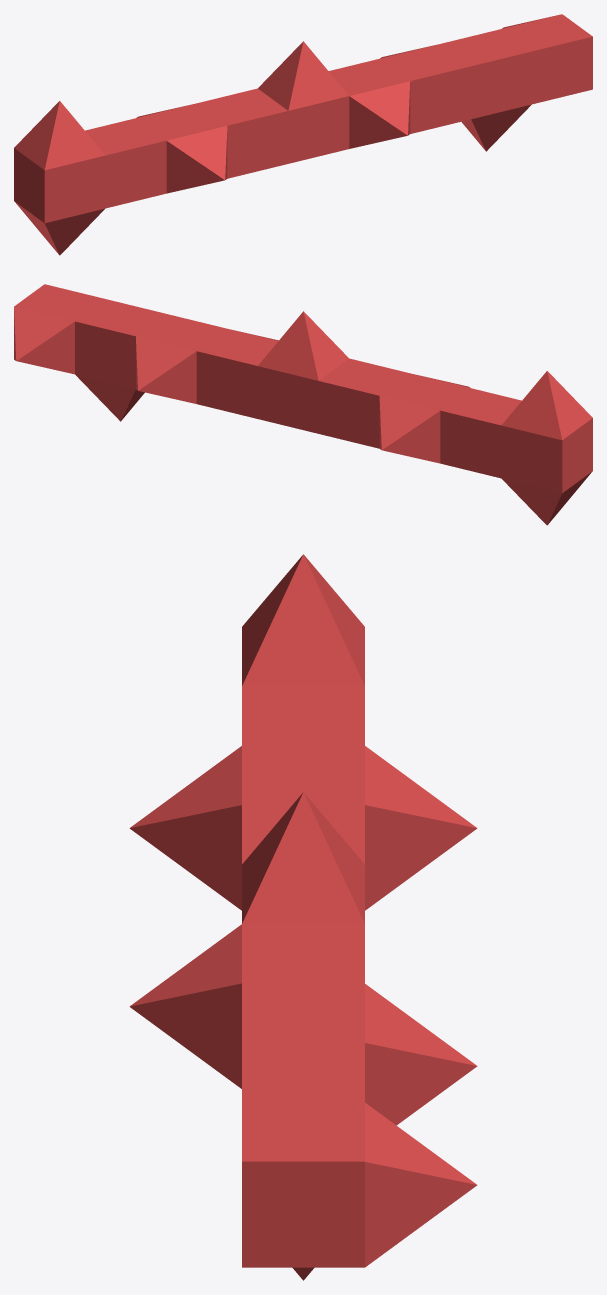
The model's file is TPole.FBX.
The picture shows the model from 3 angles, top to bottom: view 1: azimuth 30°, elevation 25°; view 2: azimuth 150°, elevation 25°; view 3: azimuth 270°, elevation 25°; orthographic projection. The views are drawn at different scales.
Visible parts, largest first — view 1: Box001; view 2: Box001; view 3: Box001.
Part boxes in pixels (x1,y1,x2,y2): Box001: (14,14,592,255); Box001: (14,284,592,525); Box001: (129,554,477,1280).
Size of the model in its own units: 6.5 by 1.76 by 1.79.
